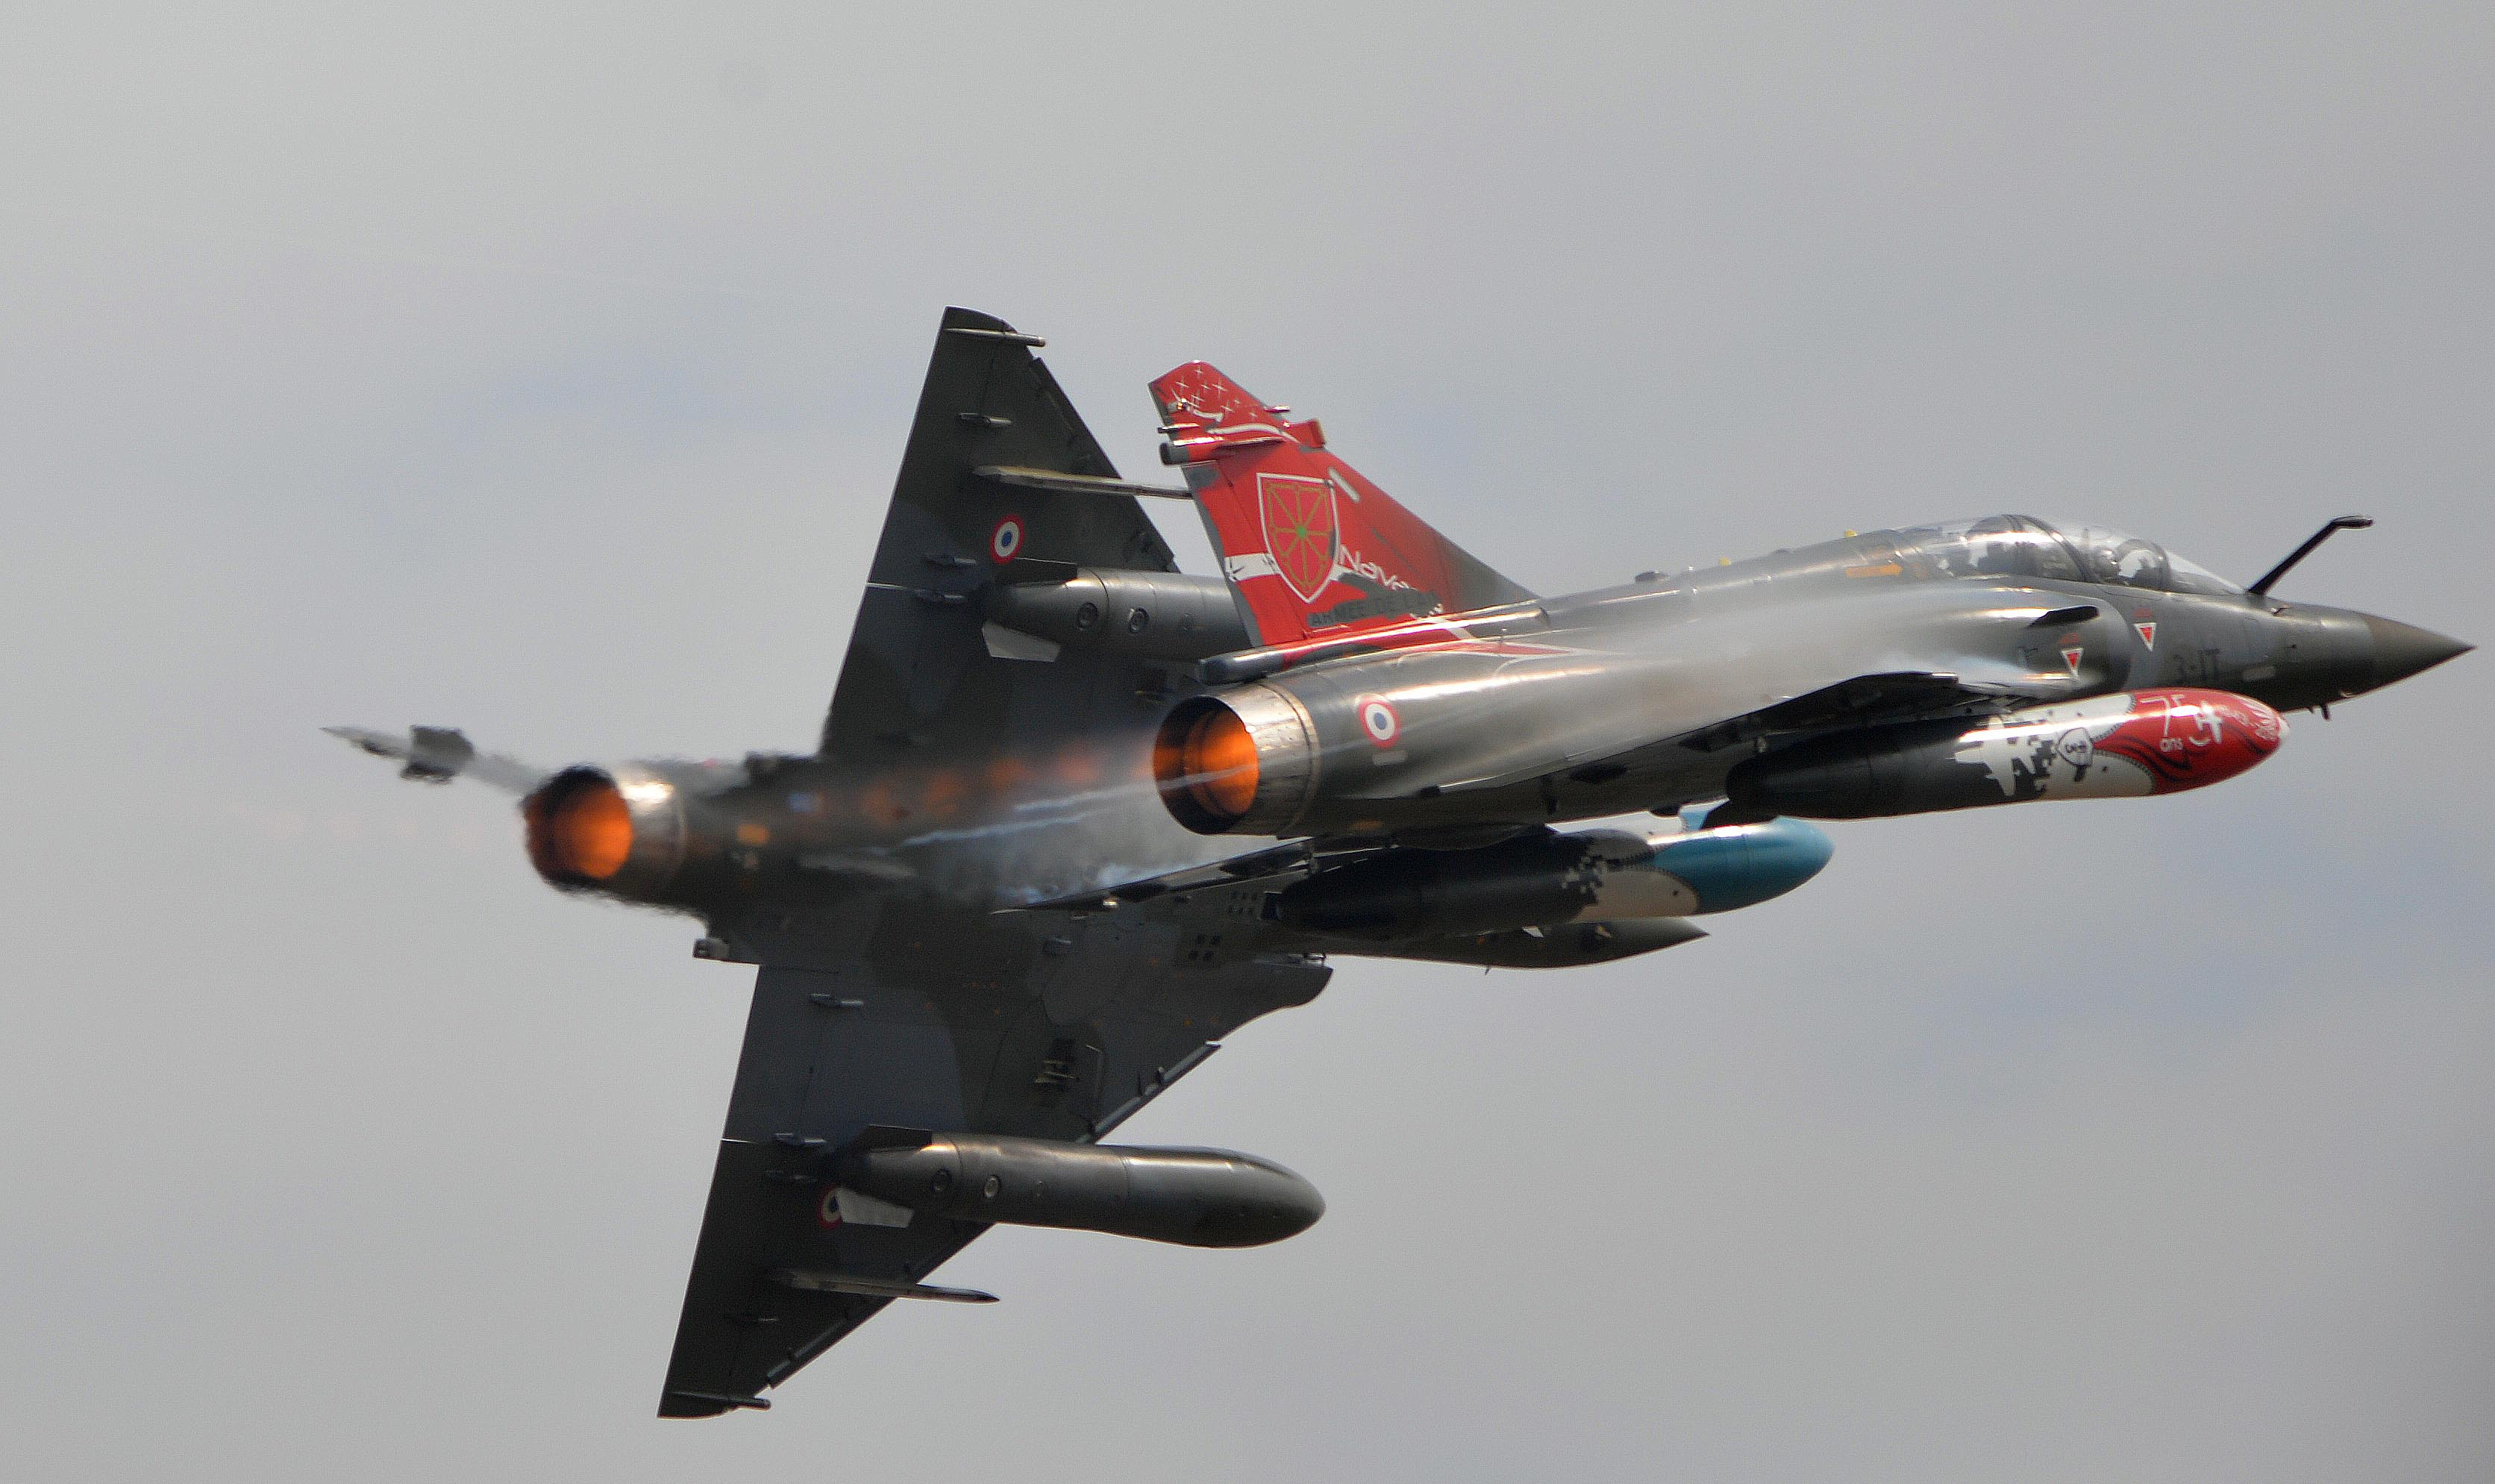Mirage2000: (320, 307, 1707, 1420), (989, 359, 2484, 942)
